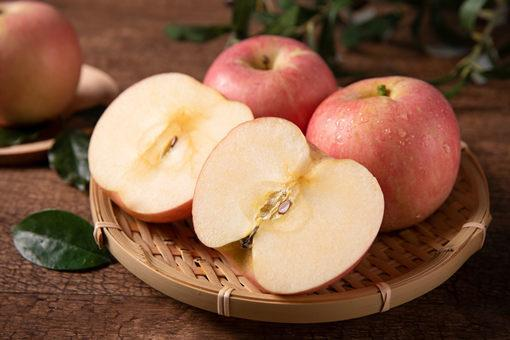apple: (193, 116, 383, 294), (86, 71, 253, 222), (304, 72, 462, 231), (201, 34, 337, 127), (1, 2, 83, 137)
